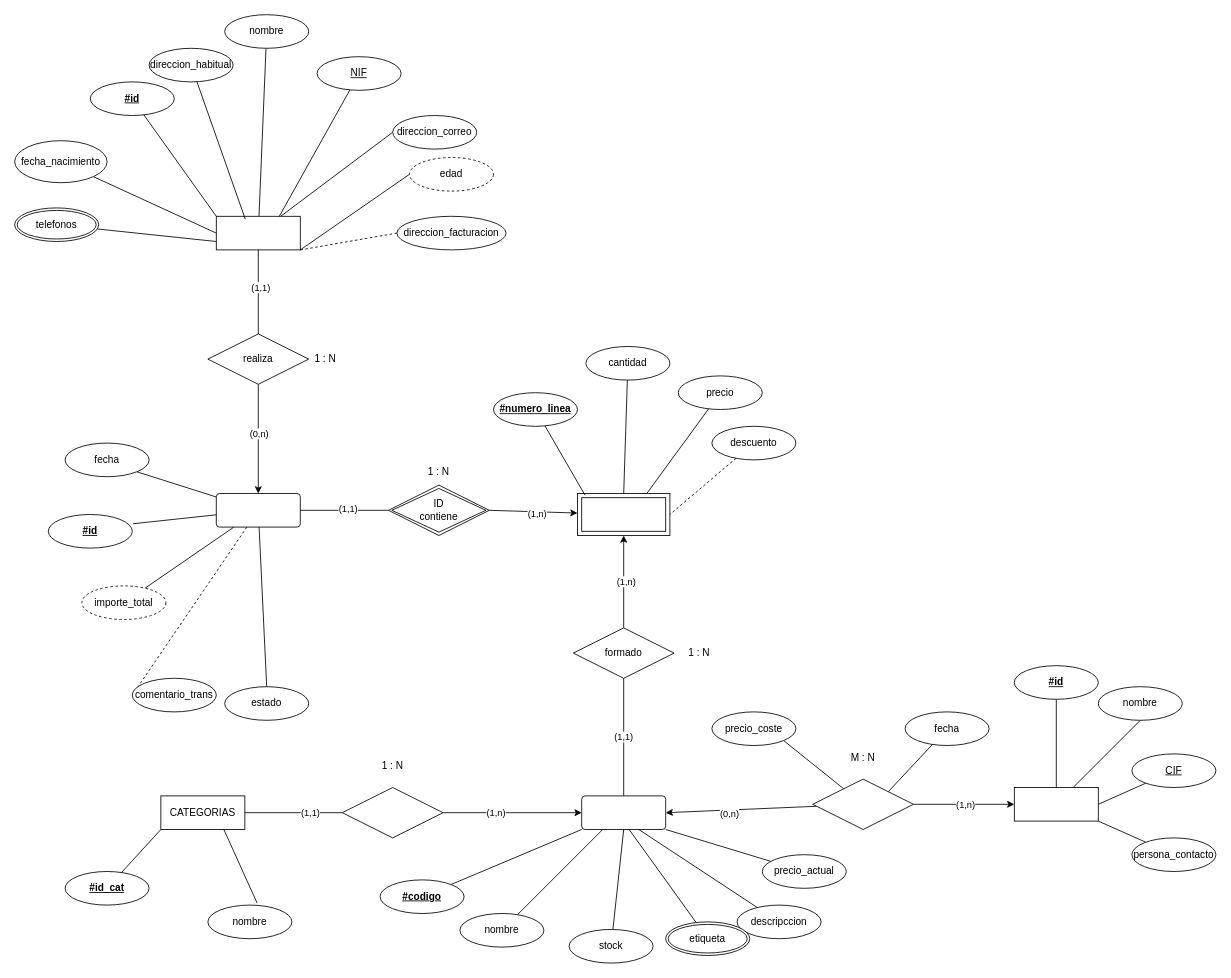
Image size: 1231x978. Some labels were removed from this diagram. Here are the shapes that lost their labels. From the top down, the centre of each, then its label:
the point at 257,232: CLIENTES
the point at 257,510: PEDIDOS
the point at 623,514: LINEA_PEDIDO
the point at 392,812: pertenece
the point at 623,812: ARTICULOS
the point at 863,804: suministra
the point at 1055,804: PROVEEDORES
